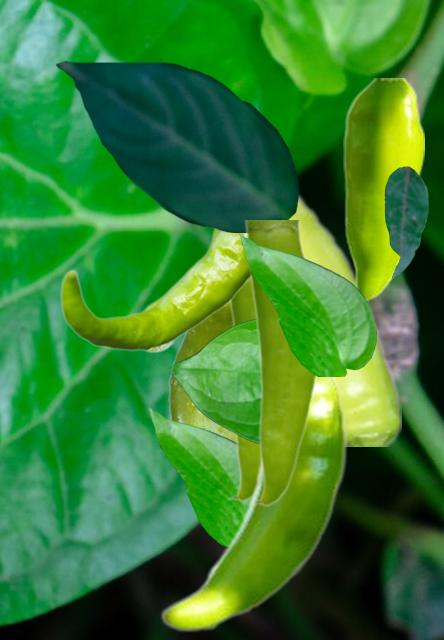green_chili: (159, 376, 347, 632), (290, 191, 400, 445), (60, 229, 249, 352), (243, 220, 317, 506), (343, 78, 423, 300), (168, 305, 234, 477), (225, 281, 258, 501)
